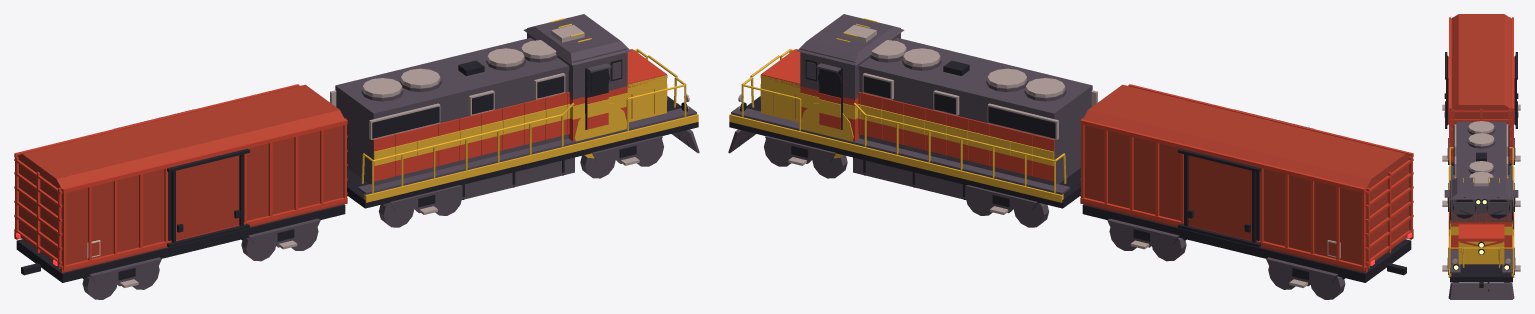
File: veh.train-freight.lod1.glb
3 views of the same model, side by side, from view 1: azimuth 30°, elevation 25°; view 2: azimuth 150°, elevation 25°; view 3: azimuth 270°, elevation 25° (orthographic). The views are drawn at different scales.
Parts seen in each view (by area): view 1: body, object 8, wheelRR; view 2: body, object 8, wheelRL; view 3: body, object 8, lightsFront.
Boxes of the visible parts, x1,y1,x2,y2 form: body: (14, 14, 699, 287); object 8: (82, 69, 615, 299); wheelRR: (378, 202, 414, 227); body: (728, 14, 1413, 287); object 8: (812, 69, 1345, 299); wheelRL: (1013, 202, 1049, 227); body: (1442, 14, 1520, 299); object 8: (1444, 55, 1518, 236); lightsFront: (1454, 200, 1508, 269).
Bounding box in the file's own units: 24.67 × 4.82 × 3.88.
